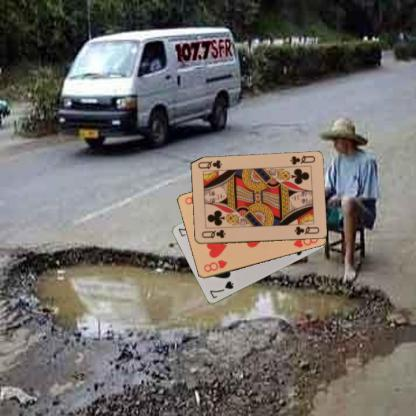7s: (207, 278, 234, 300)
8h: (201, 258, 228, 273)
Qc: (288, 153, 316, 167), (199, 227, 226, 240)
